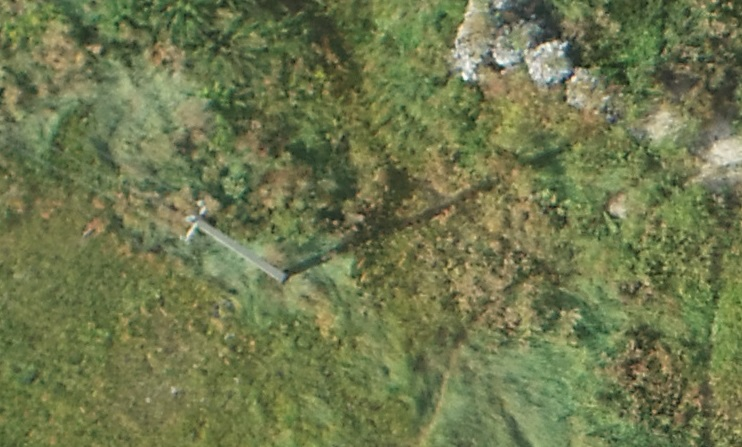opora: (174, 197, 342, 287)
